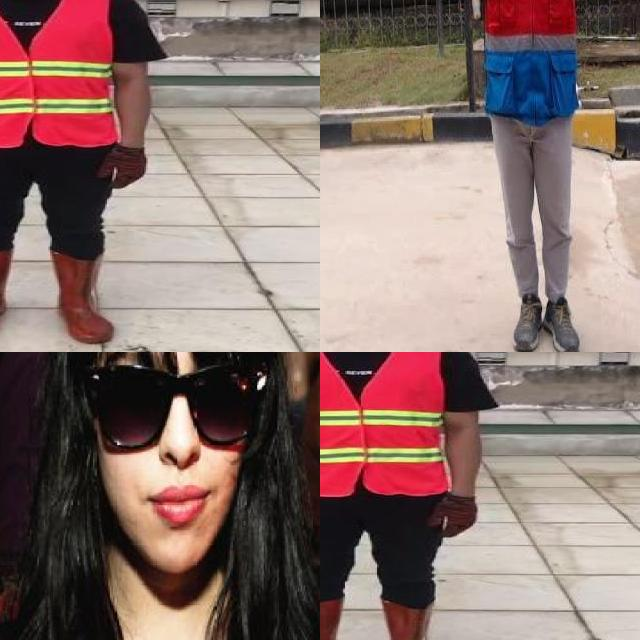boots: (48, 249, 114, 343), (378, 597, 448, 640), (545, 298, 584, 352), (510, 289, 543, 352), (0, 250, 13, 340)
face_nomask: (85, 362, 253, 544)
glasses: (83, 352, 259, 452)
hand_glove: (98, 145, 152, 190), (432, 494, 478, 538)
person: (377, 0, 640, 352), (0, 352, 320, 640), (0, 0, 159, 352), (320, 352, 492, 640)
vest: (320, 352, 451, 496), (0, 0, 118, 147), (477, 0, 580, 122)
